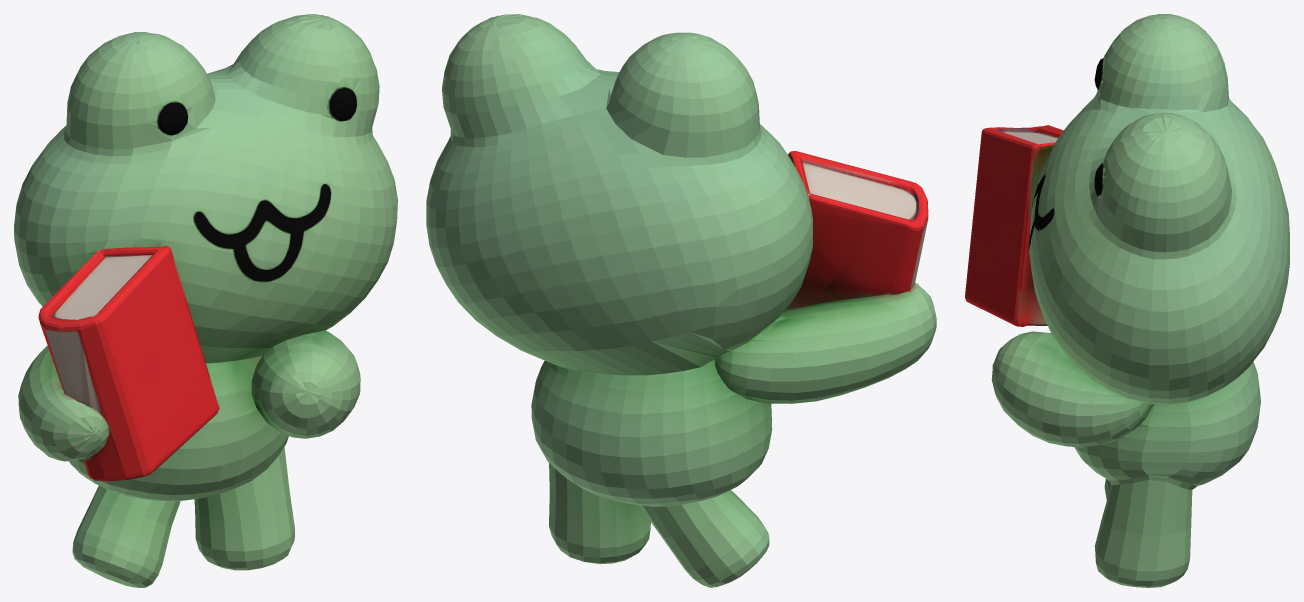
File: low_frog.glb
The picture shows the model from 3 angles, left to right: view 1: azimuth 30°, elevation 25°; view 2: azimuth 150°, elevation 25°; view 3: azimuth 270°, elevation 25°; orthographic projection. The views are drawn at different scales.
Visible parts, largest first — view 1: LOW_FROG_MESH; view 2: LOW_FROG_MESH; view 3: LOW_FROG_MESH.
Part boxes in pixels (box(x1,y1,x2,y2)): LOW_FROG_MESH: box(14, 14, 397, 587); LOW_FROG_MESH: box(426, 14, 936, 587); LOW_FROG_MESH: box(965, 14, 1289, 587).
Bounding box in the file's own units: 0.8851 × 1.09 × 0.6249.
1 material, 1 textured.
